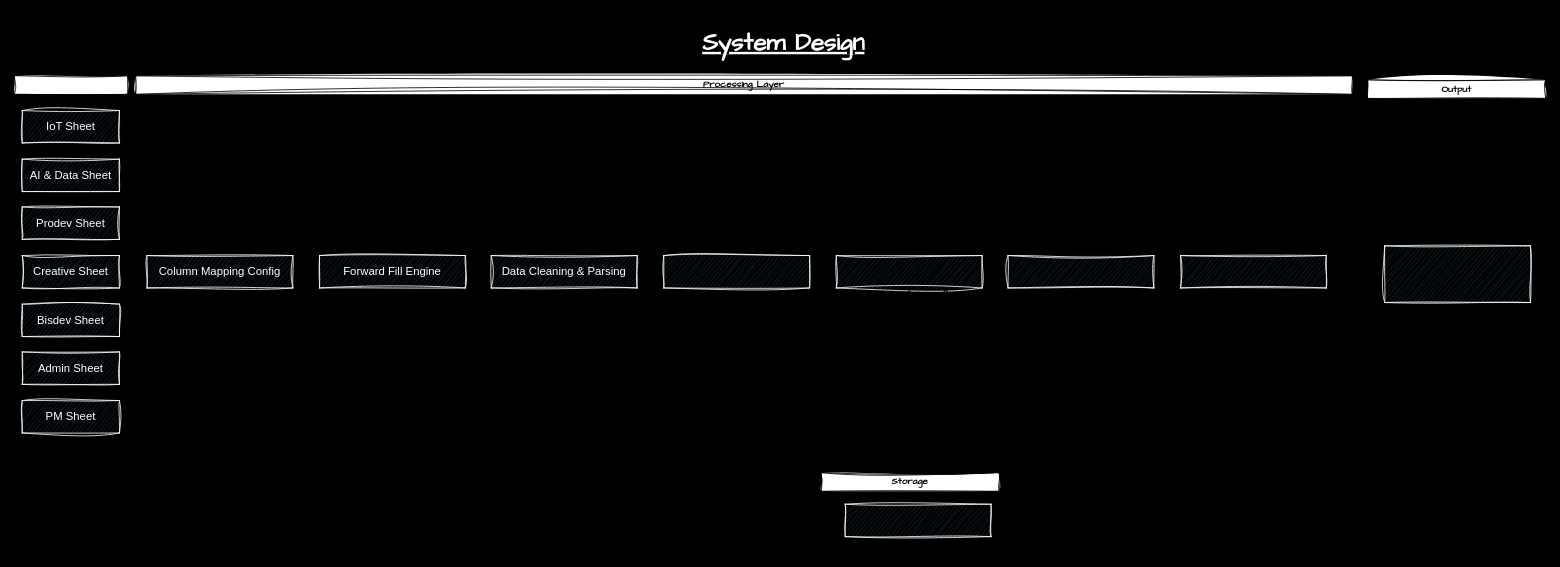
Some shapes in this 1560 by 567 pixel diagram are drawn without their labels. Here are the shapes that lost their labels. From the top down, the centre of each, then its label:
At point (70, 257): "Source Data".
At point (736, 271): "Status Normalization".
At point (909, 271): "ID Generator".
At point (1080, 271): "Multi-User Splitter".
At point (1253, 271): "Latest State Engine".
At point (1457, 274): "Data Sheet Clean & Consolidated".
At point (917, 520): "ID Map".
